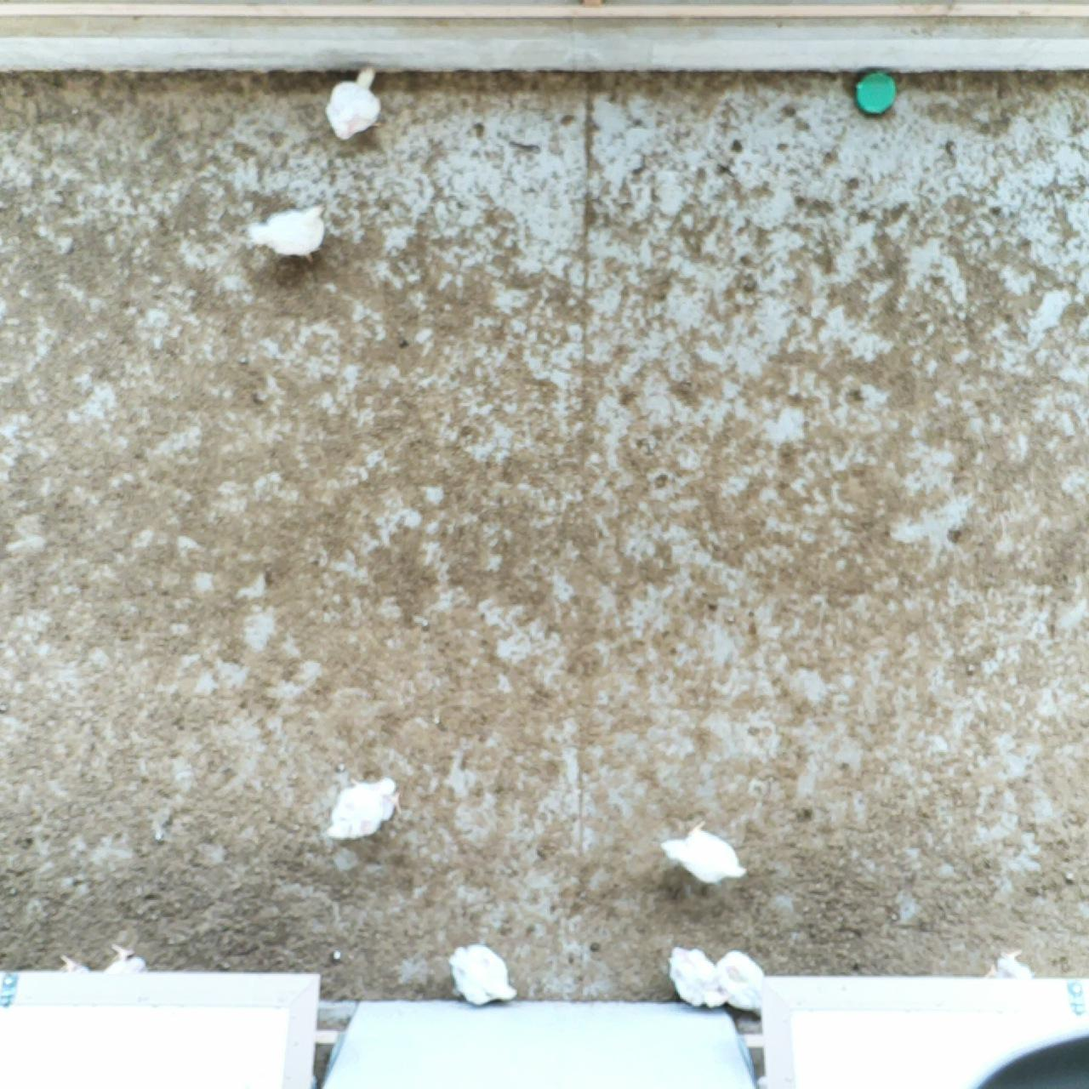chicken: (655, 815, 750, 893), (248, 197, 334, 267), (325, 771, 401, 844), (325, 54, 385, 145), (445, 939, 520, 1011), (664, 941, 725, 1009), (711, 946, 770, 1013), (982, 939, 1037, 991), (98, 941, 150, 979)
